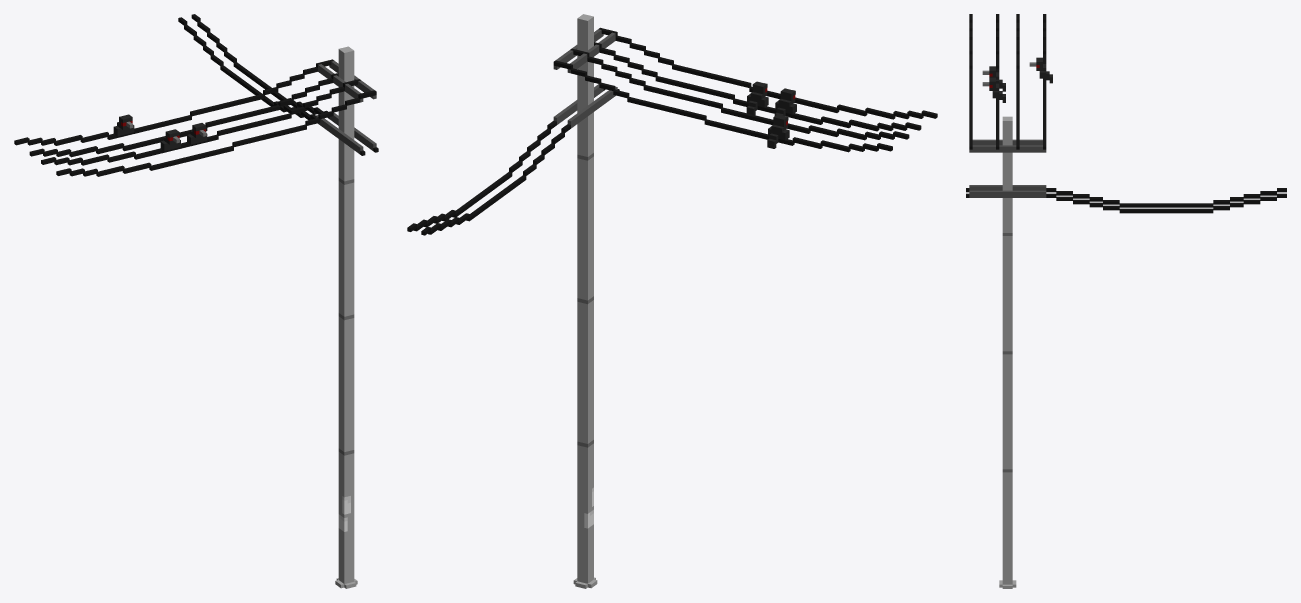
The model's file is poleTwelve.glb.
3 views of the same model, side by side, from view 1: azimuth 30°, elevation 25°; view 2: azimuth 150°, elevation 25°; view 3: azimuth 270°, elevation 25° (orthographic). The views are drawn at different scales.
Visible parts, largest first — view 1: ObjObject; view 2: ObjObject; view 3: ObjObject.
Boxes of the visible parts, <box> form: ObjObject: <box>14,14,378,588</box>; ObjObject: <box>407,14,937,588</box>; ObjObject: <box>966,14,1286,588</box>.
Bounding box in the file's own units: 9.6 × 15.4 × 9.6.
1 material, 1 textured.
